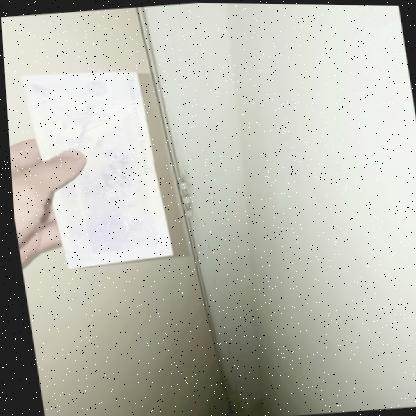two_hundred-back-vef: (18, 63, 171, 272)
